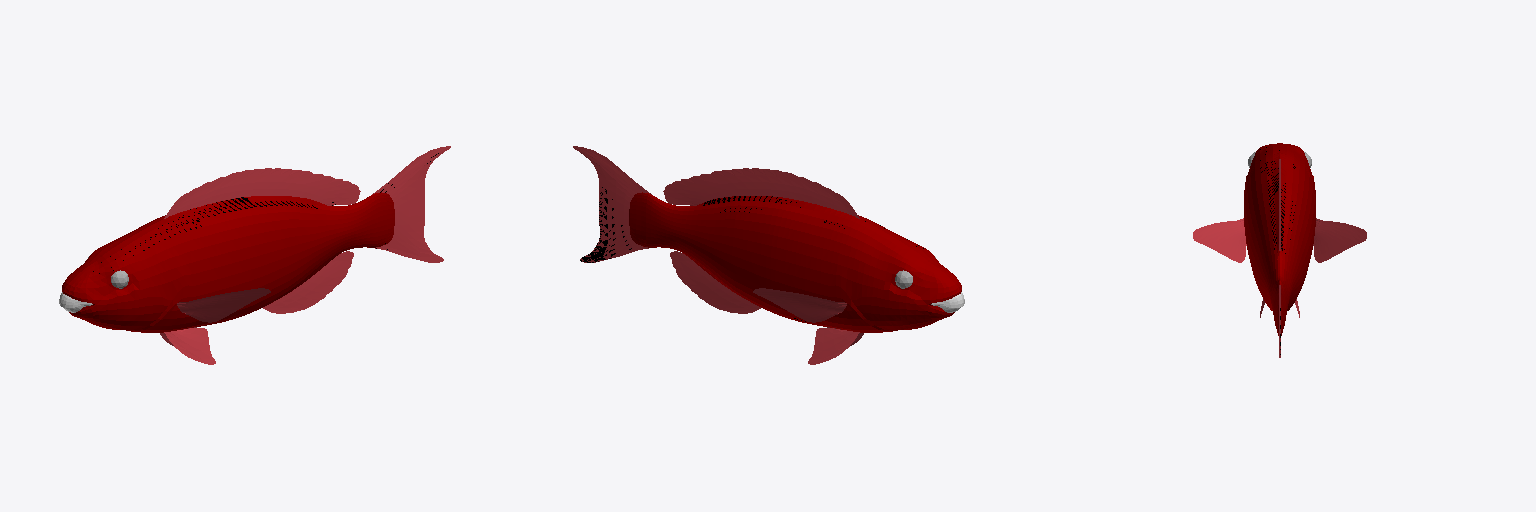
3 renders of one model, left to right at view 1: azimuth 30°, elevation 25°; view 2: azimuth 150°, elevation 25°; view 3: azimuth 270°, elevation 25°, orthographic.
Visible parts, largest first — view 1: object, object2, object8, object7, object4, object6; view 2: object, object2, object8, object7, object3, object5; view 3: object, object4, object3.
Boxes of the visible parts, <box> form: object: <box>62,192,394,332</box>; object2: <box>164,168,360,218</box>; object8: <box>372,146,450,262</box>; object7: <box>263,251,353,313</box>; object4: <box>177,288,270,322</box>; object6: <box>164,328,215,364</box>; object: <box>629,192,961,332</box>; object2: <box>663,168,859,218</box>; object8: <box>573,146,651,262</box>; object7: <box>670,251,760,313</box>; object3: <box>753,288,846,322</box>; object5: <box>808,328,859,364</box>; object: <box>1244,143,1315,335</box>; object4: <box>1193,218,1246,262</box>; object3: <box>1313,218,1366,262</box>.
Bounding box in the file's own units: 0.3991 × 0.1725 × 0.1546.
Materials: 1 (1 with a texture image).